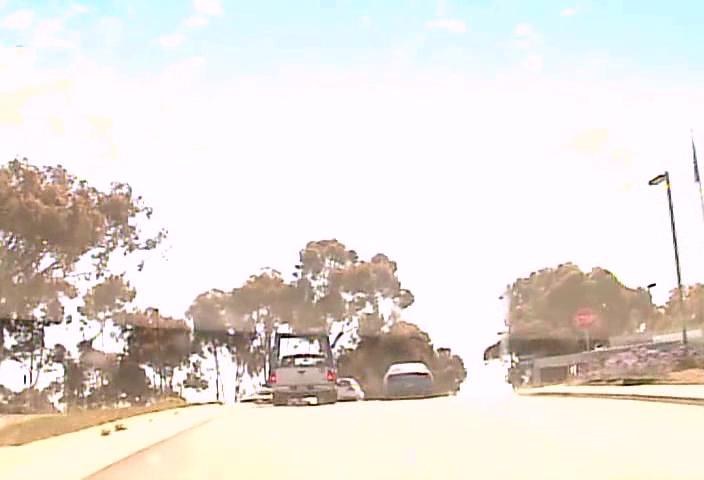stop: (571, 307, 596, 330)
